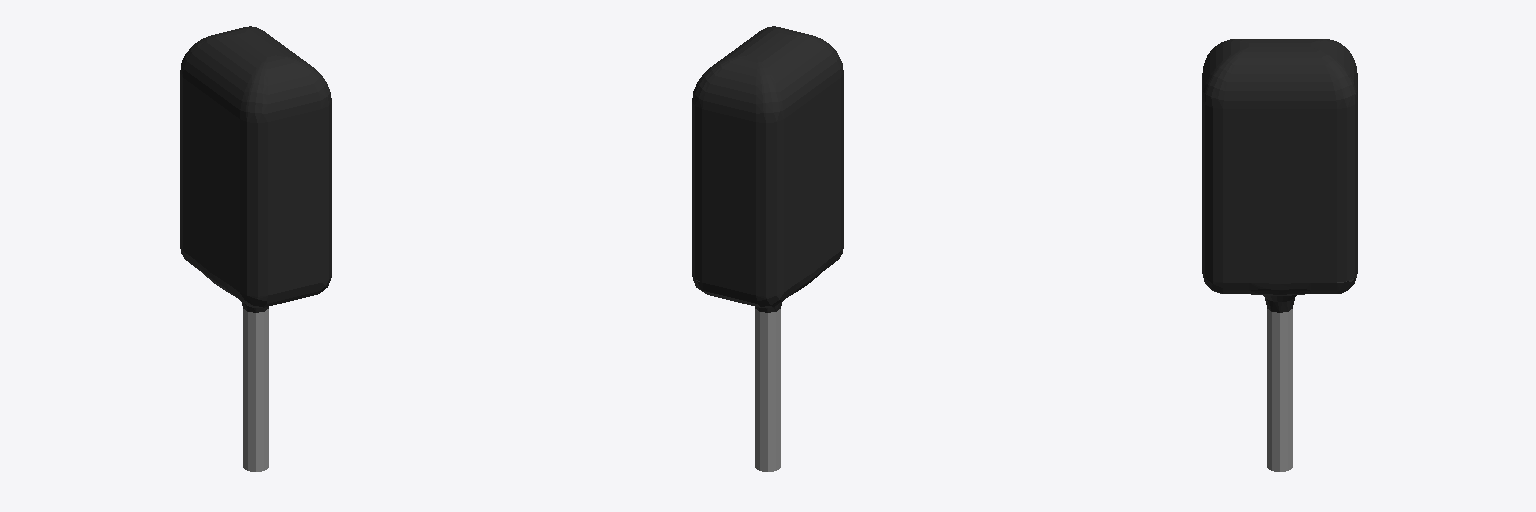
Rendered from Netzwerk.obj.
3 views of the same model, side by side, from view 1: azimuth 30°, elevation 25°; view 2: azimuth 150°, elevation 25°; view 3: azimuth 270°, elevation 25° (orthographic).
Parts seen in each view (by area): view 1: Volumenkörper1; view 2: Volumenkörper1; view 3: Volumenkörper1.
Boxes of the visible parts, x1,y1,x2,y2 form: Volumenkörper1: [180, 26, 331, 471]; Volumenkörper1: [692, 26, 843, 471]; Volumenkörper1: [1202, 39, 1357, 471].
Bounding box in the file's own units: 2 × 9 × 3.